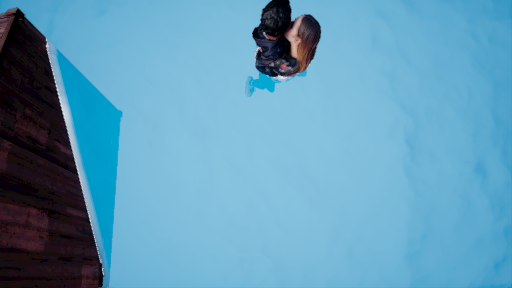person: (245, 2, 326, 100)
